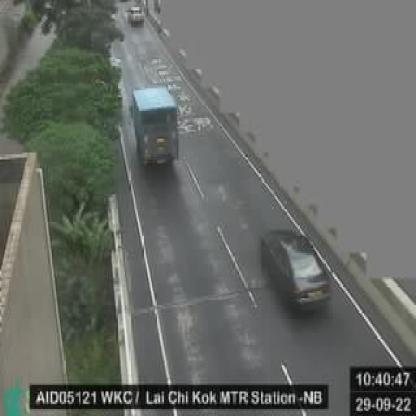Car: (250, 220, 343, 324), (123, 3, 147, 26)
Truck: (124, 81, 193, 184)
